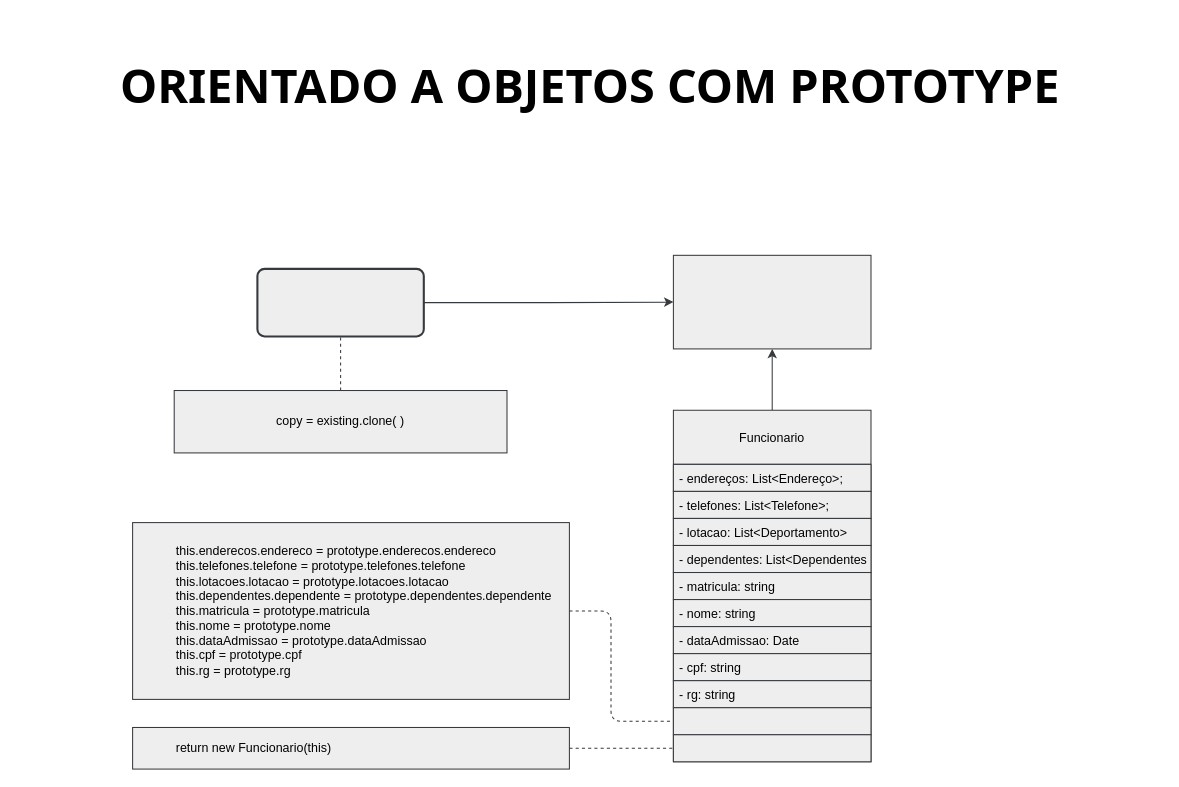
Some shapes in this 1179 by 787 pixel diagram are drawn without their labels. The shapes that lost their labels are listed below. From the top down, each one's box as (x1, y1, x2, y2) in pixels, then its label:
(256, 267, 424, 337): CLIENTE
(672, 254, 871, 349): <<Interface>> Prototype + clone( ): Prototype
(672, 707, 871, 735): + Funcionario(prototype)
(672, 734, 871, 762): + clone( ): Prototype
